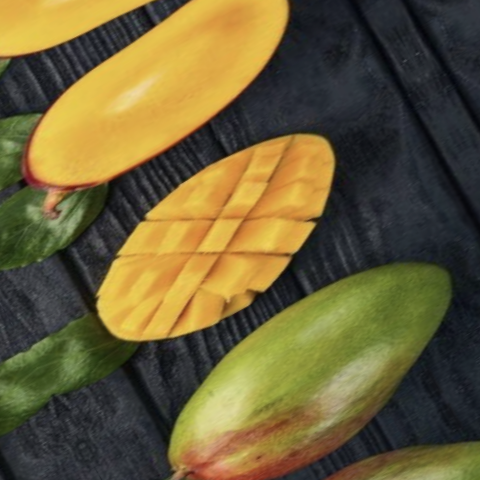mango: (57, 80, 427, 381), (111, 215, 480, 480), (0, 0, 339, 241)
